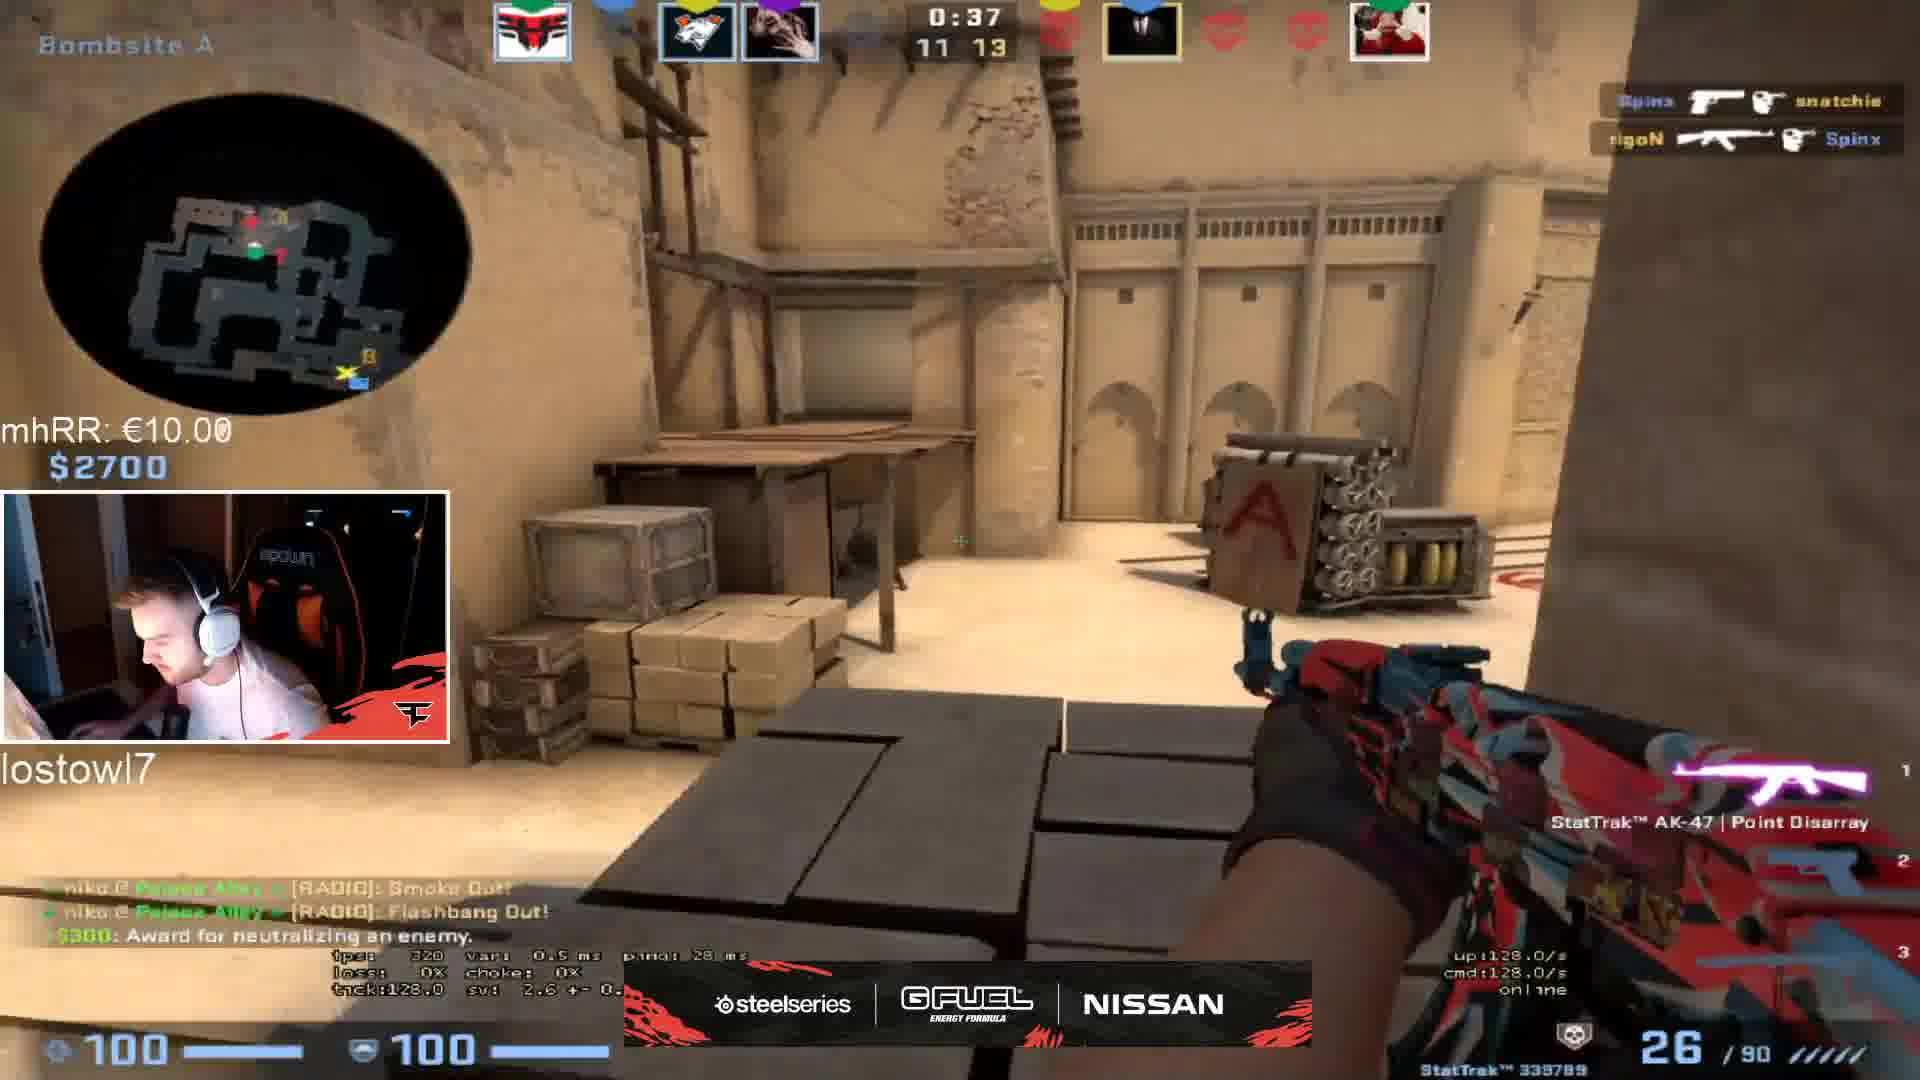enemy: (836, 517, 881, 585)
